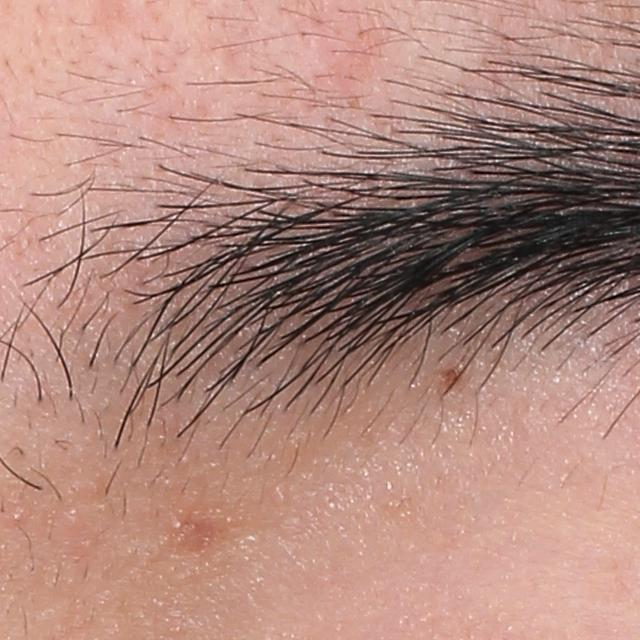nevus: (437, 363, 469, 394)
